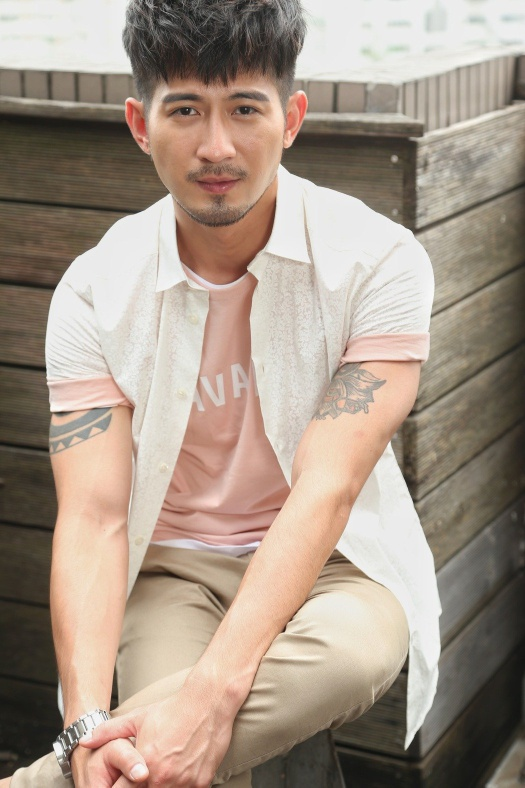male: (107, 2, 354, 249)
